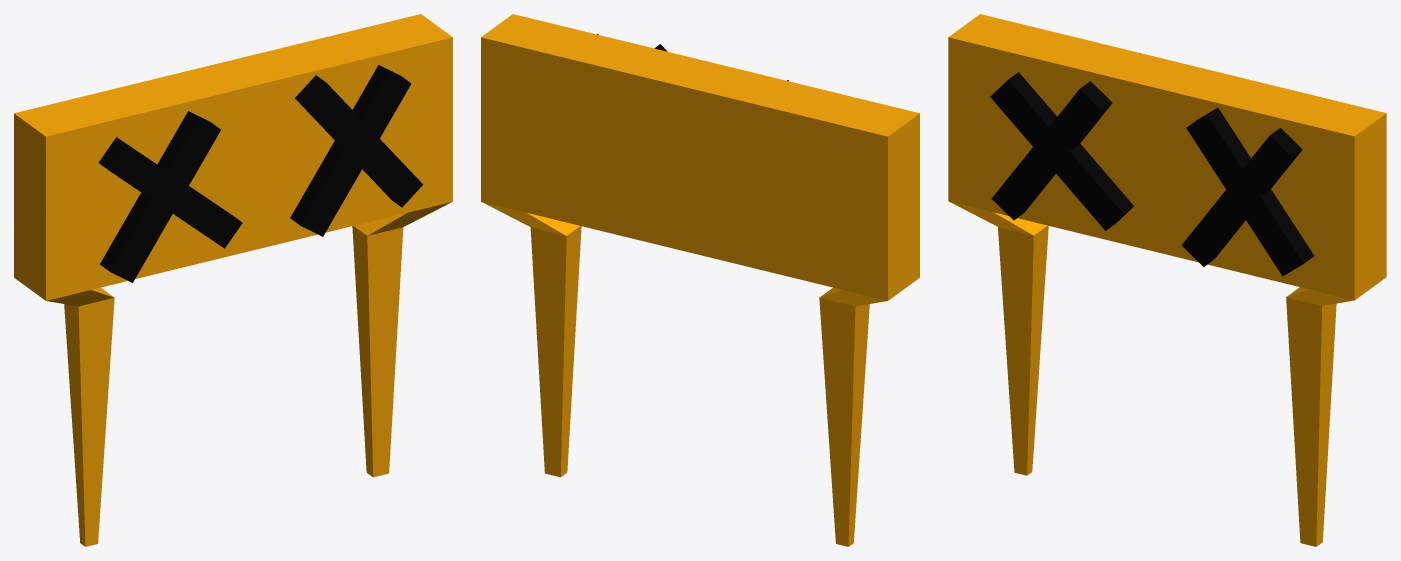
File: Ban.fbx
The picture shows the model from 3 angles, left to right: view 1: azimuth 30°, elevation 25°; view 2: azimuth 150°, elevation 25°; view 3: azimuth 330°, elevation 25°; orthographic projection.
Parts seen in each view (by area): view 1: pCube7; view 2: pCube7; view 3: pCube7.
Boxes of the visible parts, bbox=[...] form: pCube7: bbox=[14, 14, 452, 546]; pCube7: bbox=[481, 14, 919, 546]; pCube7: bbox=[948, 14, 1386, 546].
Bounding box in the file's own units: 19.91 × 20.23 × 3.61.
